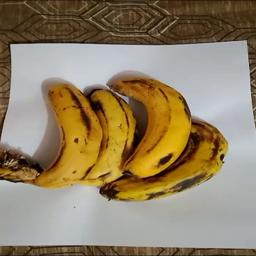Banana Semifresh: (26, 82, 231, 203)
